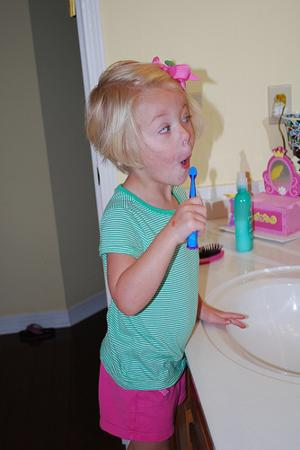person: (86, 57, 250, 445)
